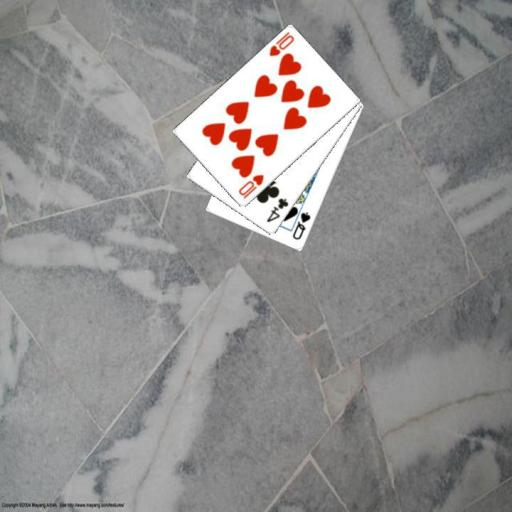10H: (236, 172, 266, 201), (266, 29, 296, 58)
4C: (263, 195, 290, 224)
QS: (290, 209, 313, 242)
